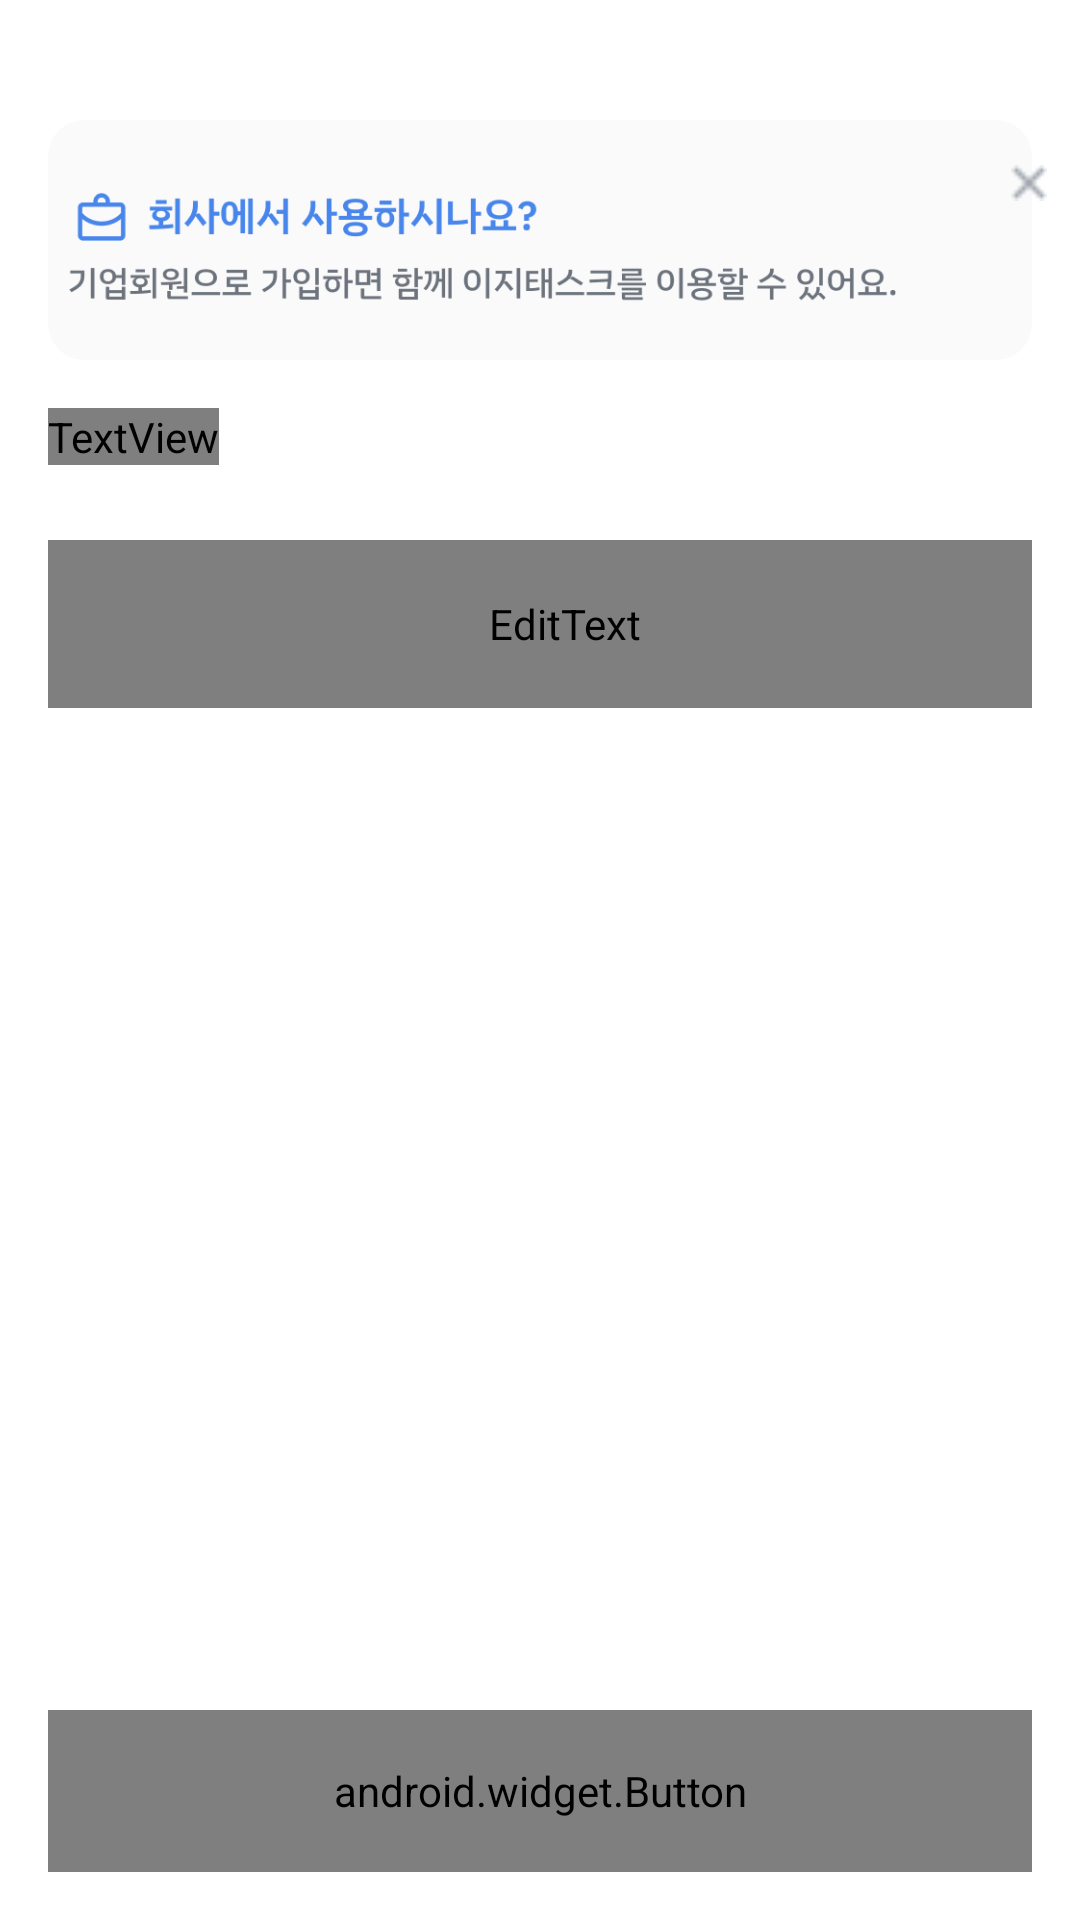

Locate icon controls on the screen. Image size 1080px×1920px, boxes as [left=x1, top=y1, right=x2, bottom=y2].
signup ex: [left=1013, top=167, right=1045, bottom=201]
